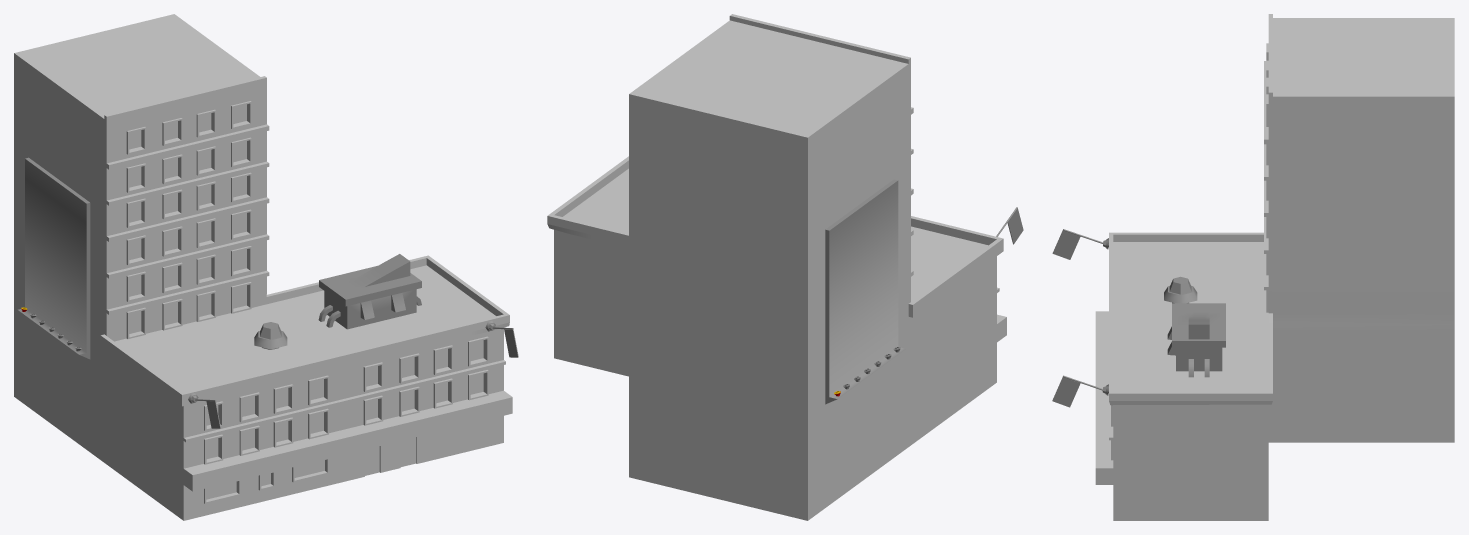
File: 3D_MHOU_001.FBX
3 renders of one model, left to right at view 1: azimuth 30°, elevation 25°; view 2: azimuth 150°, elevation 25°; view 3: azimuth 270°, elevation 25°, orthographic. The views are drawn at different scales.
Visible parts, largest first — view 1: Building, Billbord, Roof Generator, Vent; view 2: Building, Billbord; view 3: Building, Roof Generator, Vent, Flag001, Flag002.
Boxes of the visible parts, <box> form: Building: <box>14,14,512,520</box>; Billbord: <box>18,157,90,359</box>; Roof Generator: <box>318,254,421,329</box>; Vent: <box>254,322,287,349</box>; Building: <box>547,14,1006,520</box>; Billbord: <box>825,179,905,404</box>; Building: <box>1095,14,1454,520</box>; Roof Generator: <box>1167,303,1225,377</box>; Vent: <box>1164,276,1197,303</box>; Flag001: <box>1052,377,1080,407</box>; Flag002: <box>1052,230,1080,259</box>.
Bounding box in the file's own units: 4076 × 4035 × 4207.
